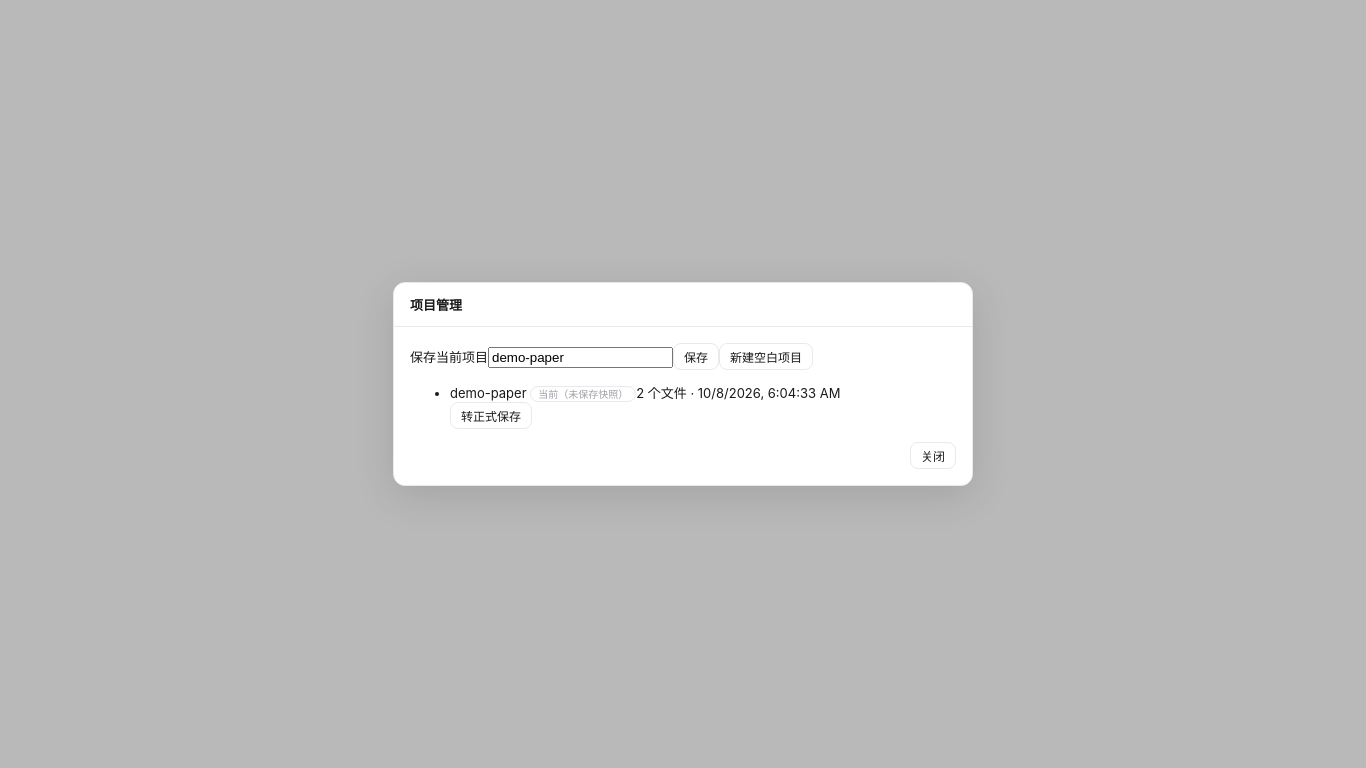
Test: ProjectSwitcher › 置顶临时记录可一键转正式保存（同名入库并移除临时记录）
What coordinates should you click on to do the following:
click the button "转正式保存"
I would click on:
 (491, 416)
Its box is [450,402,532,429].
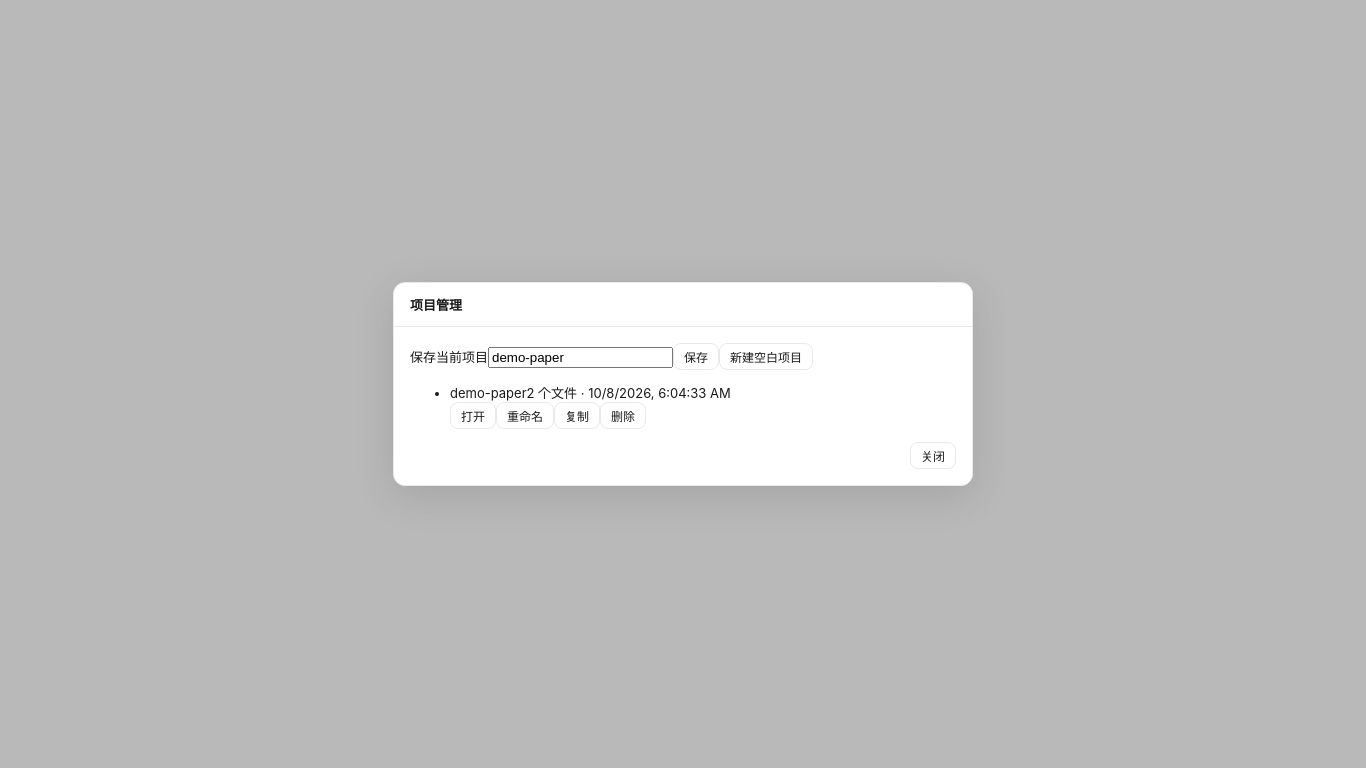
Check: the list item with class "current" is gone
